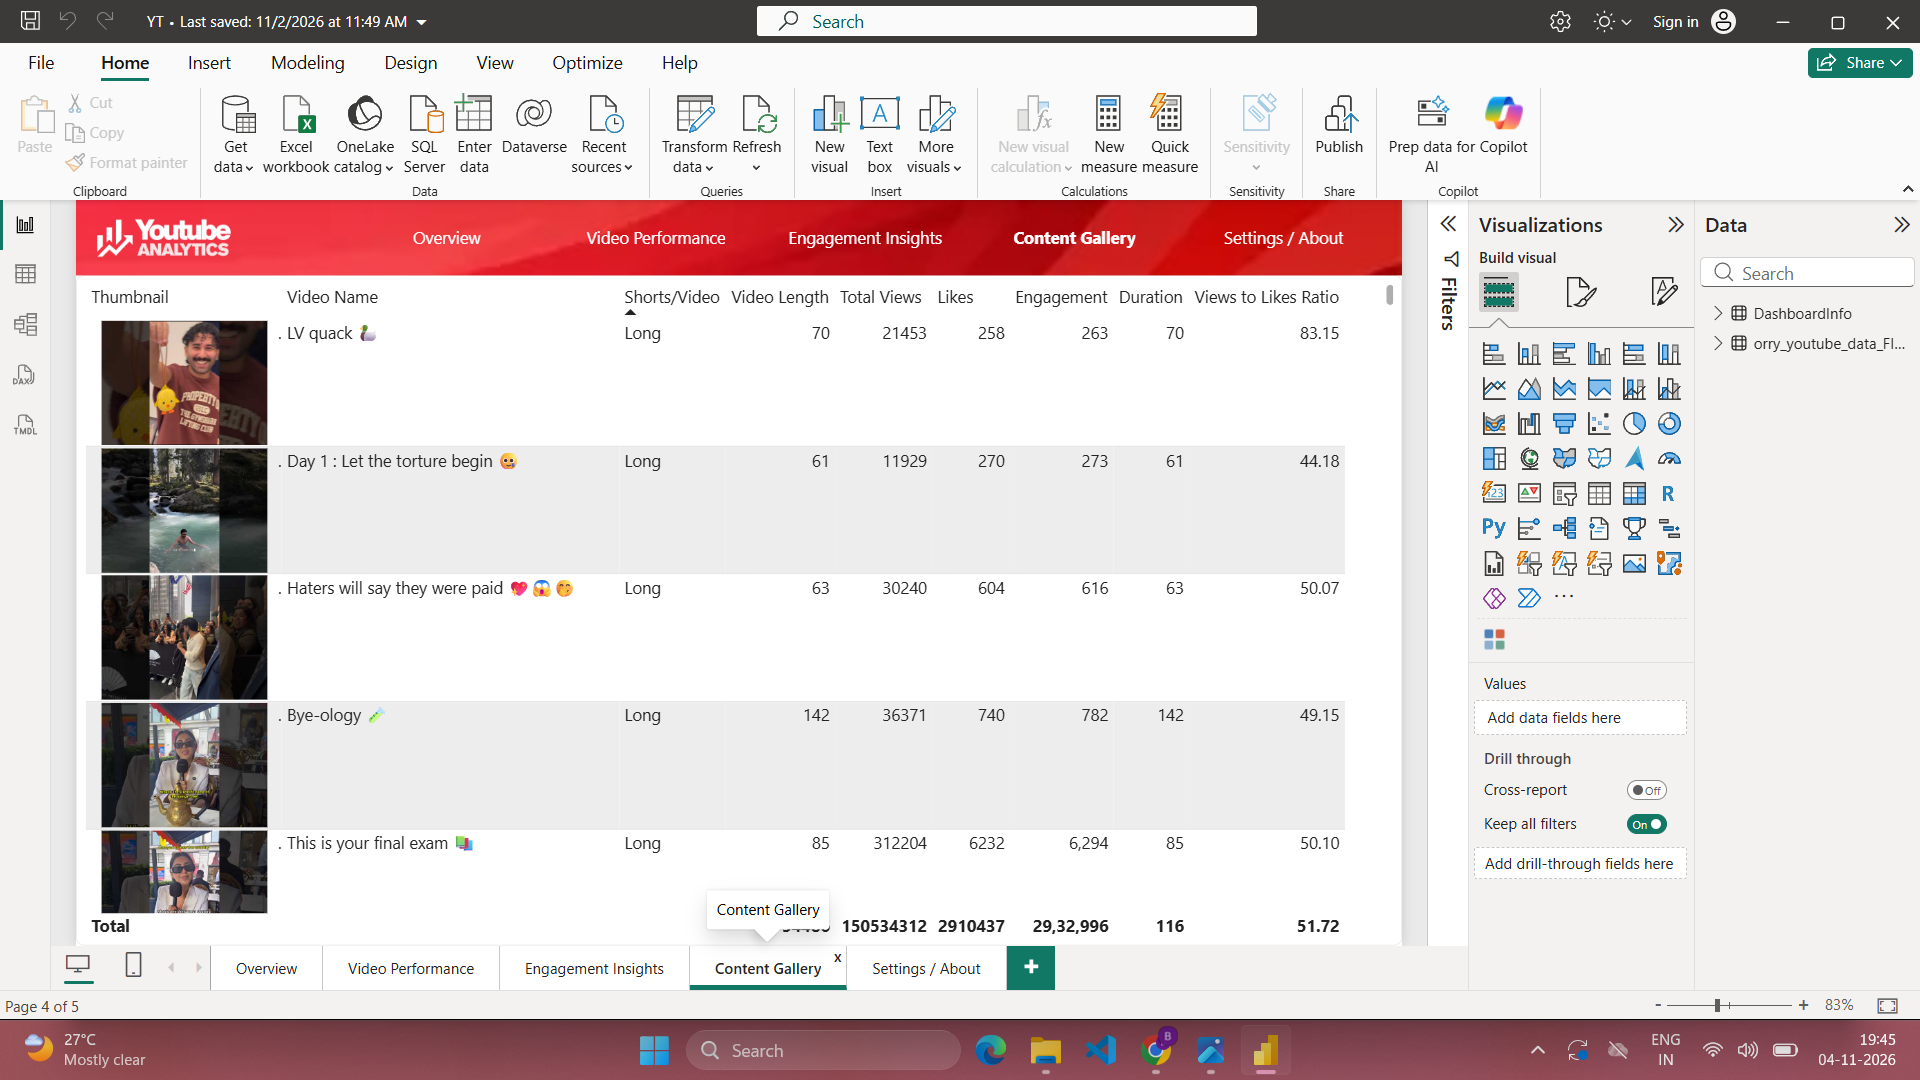

What the dashboard file says about the page in this screenshot:
{"tool":"powerbi","page":{"name":"Content Gallery","canvas":[1280,720],"ordinal":3},"visuals":[{"type":"tableEx","fields":{"Values":["orry_youtube_data_FINAL.thumbnail_url","orry_youtube_data_FINAL.video_name","orry_youtube_data_FINAL.video_type","Sum(orry_youtube_data_FINAL.video_length_sec)","Sum(orry_youtube_data_FINAL.sum_of_views)","Sum(orry_youtube_data_FINAL.sum_of_likes)","orry_youtube_data_FINAL.Total Engagement","orry_youtube_data_FINAL.Avg Duration (Seconds)","orry_youtube_data_FINAL.Views to Likes Ratio"]},"box":[0,72.9,1280,647.1],"z":0},{"type":"image","box":[0,0,1280,72.9],"z":1},{"type":"pageNavigator","box":[261.9,12.5,1001.2,47.5],"z":2},{"type":"image","box":[16.2,0,151.2,72.5],"z":3}]}

Visuals, with their boxes on the page's 1280x720 design canvas (x1, y1, x2, y2). These are canvas units, not pixel positions in the 1920x1080 screenshot, which may show the page scaled, cropped or inside an application window:
tableEx - orry_youtube_data_FINAL.thumbnail_url x orry_youtube_data_FINAL.video_name: 0,73,1280,720
image: 0,0,1280,73
pageNavigator: 262,12,1263,60
image: 16,0,167,72
